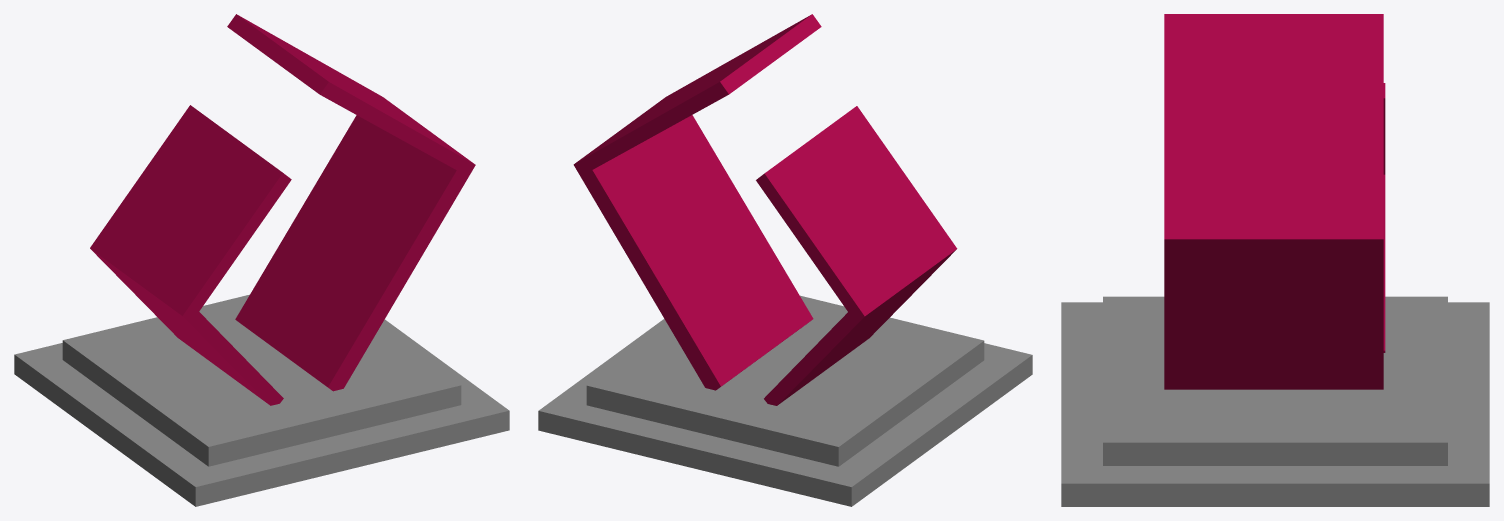
Rendered from Art-03.fbx.
3 views of the same model, side by side, from view 1: azimuth 30°, elevation 25°; view 2: azimuth 150°, elevation 25°; view 3: azimuth 270°, elevation 25° (orthographic). The views are drawn at different scales.
Parts seen in each view (by area): view 1: Art-03; view 2: Art-03; view 3: Art-03.
Part boxes in pixels (x1,y1,x2,y2): Art-03: [14, 14, 509, 506]; Art-03: [538, 14, 1032, 506]; Art-03: [1061, 14, 1489, 506].
Size of what is drawn, in the model's own units: 5.13 by 5.3 by 4.98.
